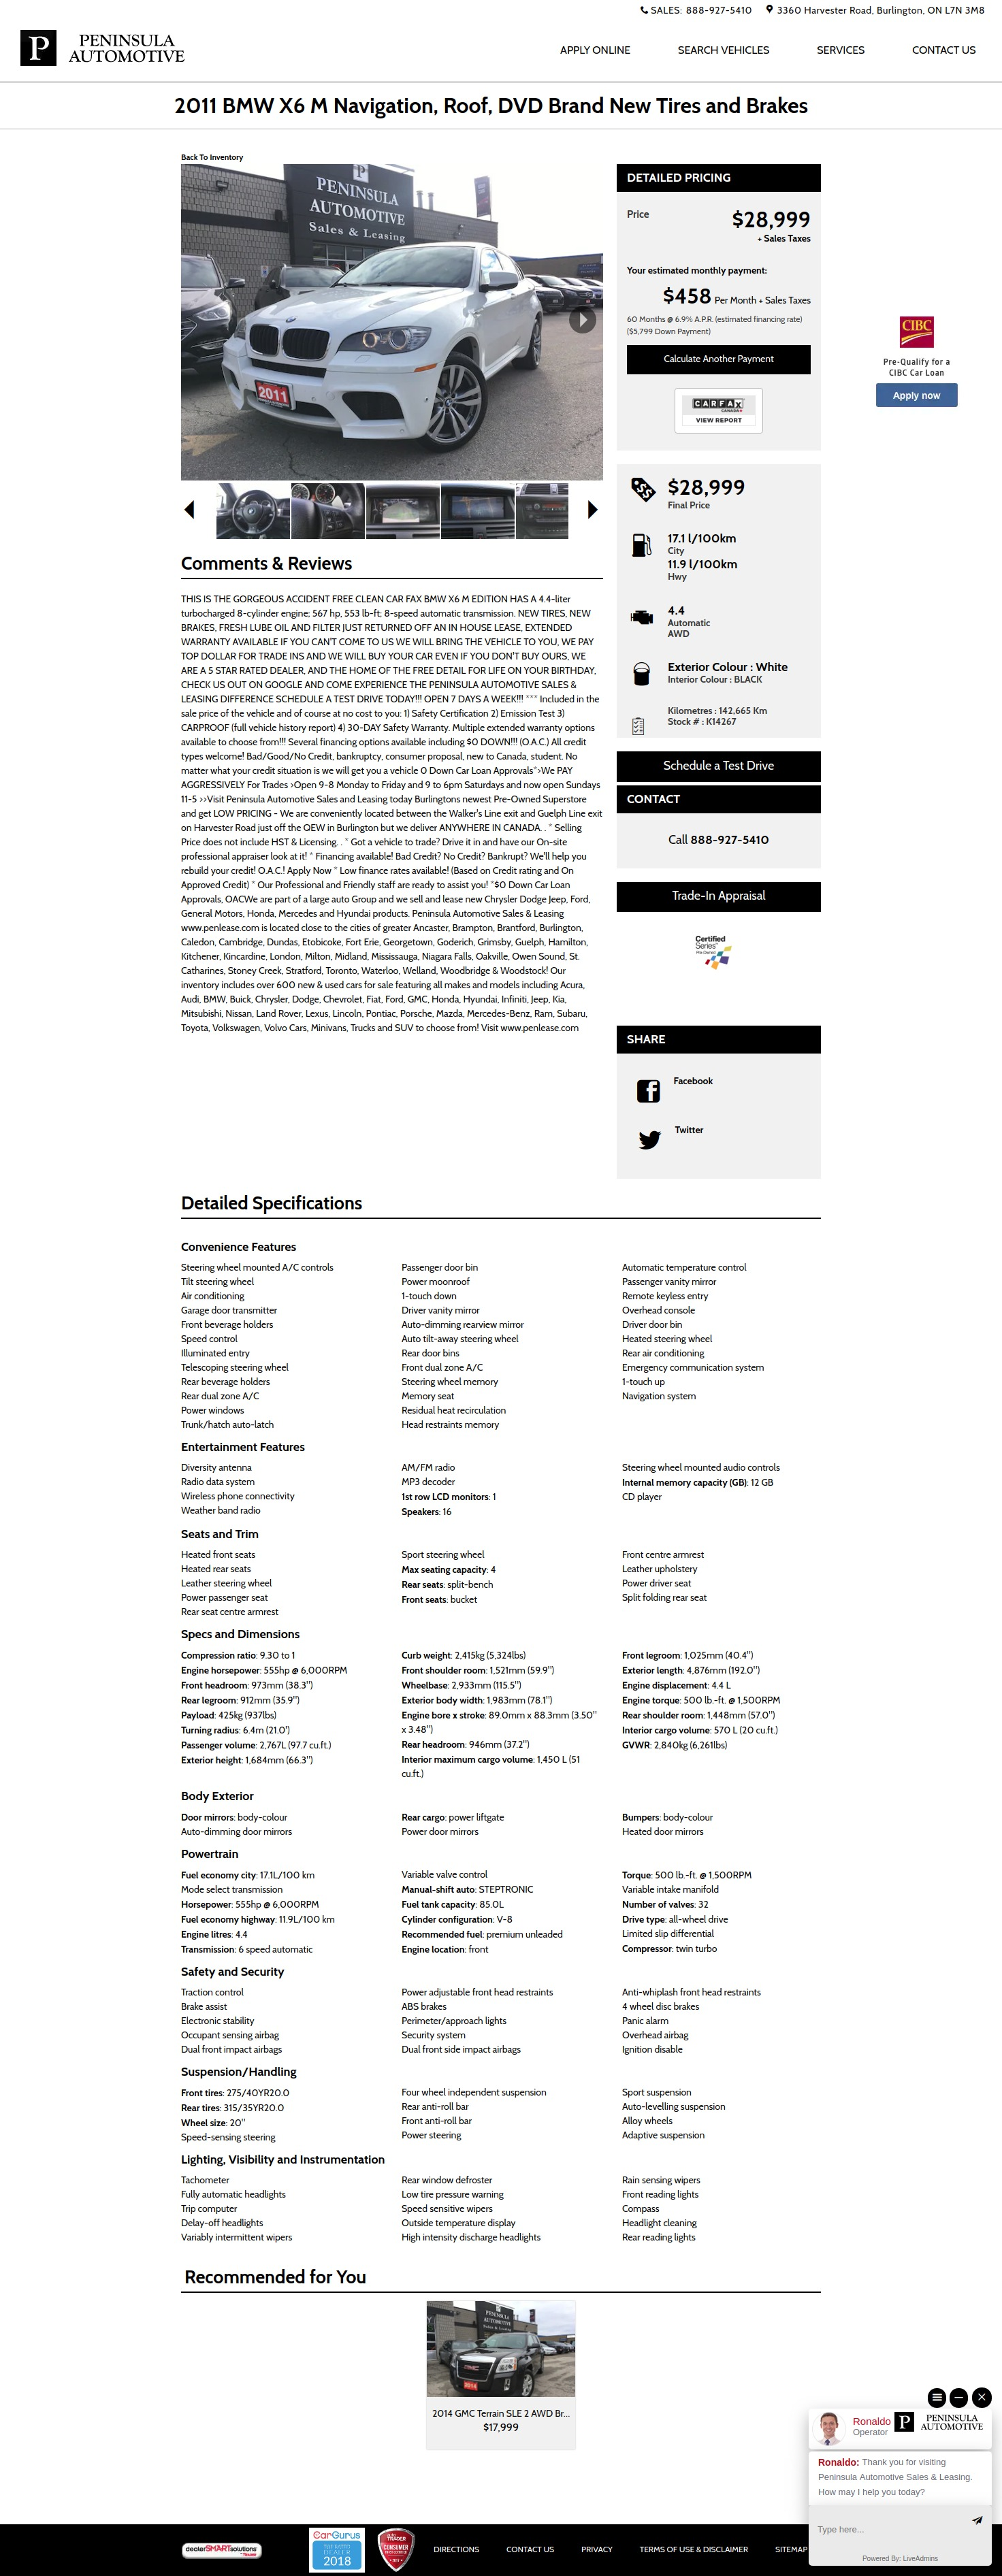car: (588, 501, 598, 521)
